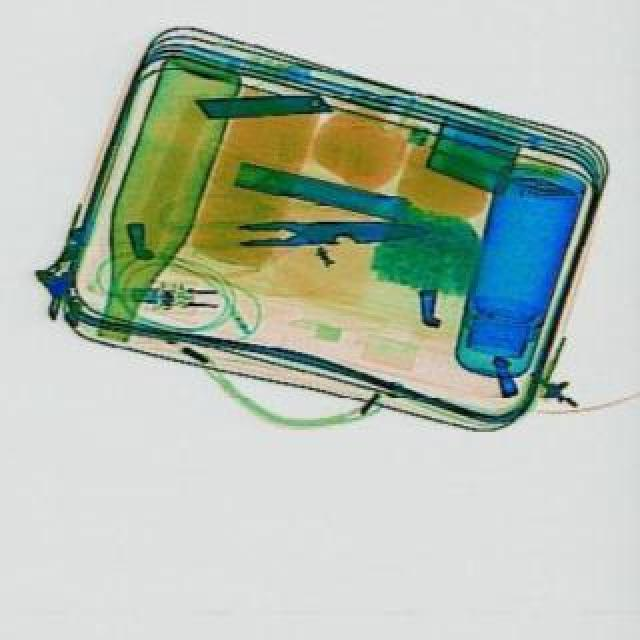knife: (240, 216, 428, 248)
